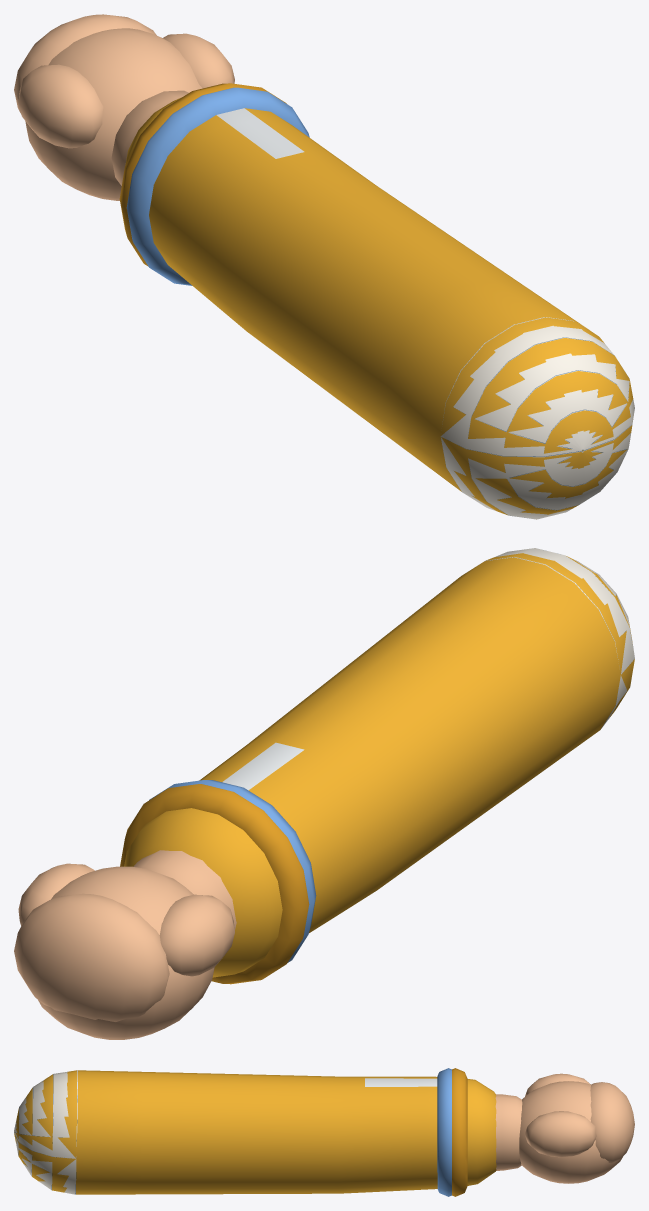
File: FirstPersonArms.fbx
3 views of the same model, one above another, from view 1: azimuth 30°, elevation 25°; view 2: azimuth 150°, elevation 25°; view 3: azimuth 270°, elevation 25° (orthographic). The views are drawn at different scales.
Visible parts, largest first — view 1: FP_Bolt_L, FP_Dot_L, FP_Pip_L, FP_Bolt_R, FP_Gus_L; view 2: FP_Bolt_L, FP_Bolt_R, FP_Pip_L, FP_Dot_L; view 3: FP_Bolt_L, FP_Dot_L, FP_Pip_L, FP_Bolt_R.
Part boxes in pixels (x1=…): FP_Bolt_L: x1=14, y1=14, x2=633, y2=515; FP_Dot_L: x1=440, y1=317, x2=634, y2=519; FP_Pip_L: x1=126, y1=87, x2=633, y2=518; FP_Bolt_R: x1=18, y1=64, x2=103, y2=148; FP_Gus_L: x1=445, y1=317, x2=631, y2=510; FP_Bolt_L: x1=14, y1=553, x2=634, y2=1039; FP_Bolt_R: x1=159, y1=894, x2=234, y2=976; FP_Pip_L: x1=149, y1=549, x2=634, y2=962; FP_Dot_L: x1=487, y1=548, x2=634, y2=728; FP_Bolt_L: x1=14, y1=1068, x2=634, y2=1196; FP_Dot_L: x1=14, y1=1070, x2=77, y2=1194; FP_Pip_L: x1=14, y1=1068, x2=451, y2=1196; FP_Bolt_R: x1=525, y1=1073, x2=590, y2=1096.
Bounding box in the file's own units: 0.184 × 0.1733 × 0.845.
